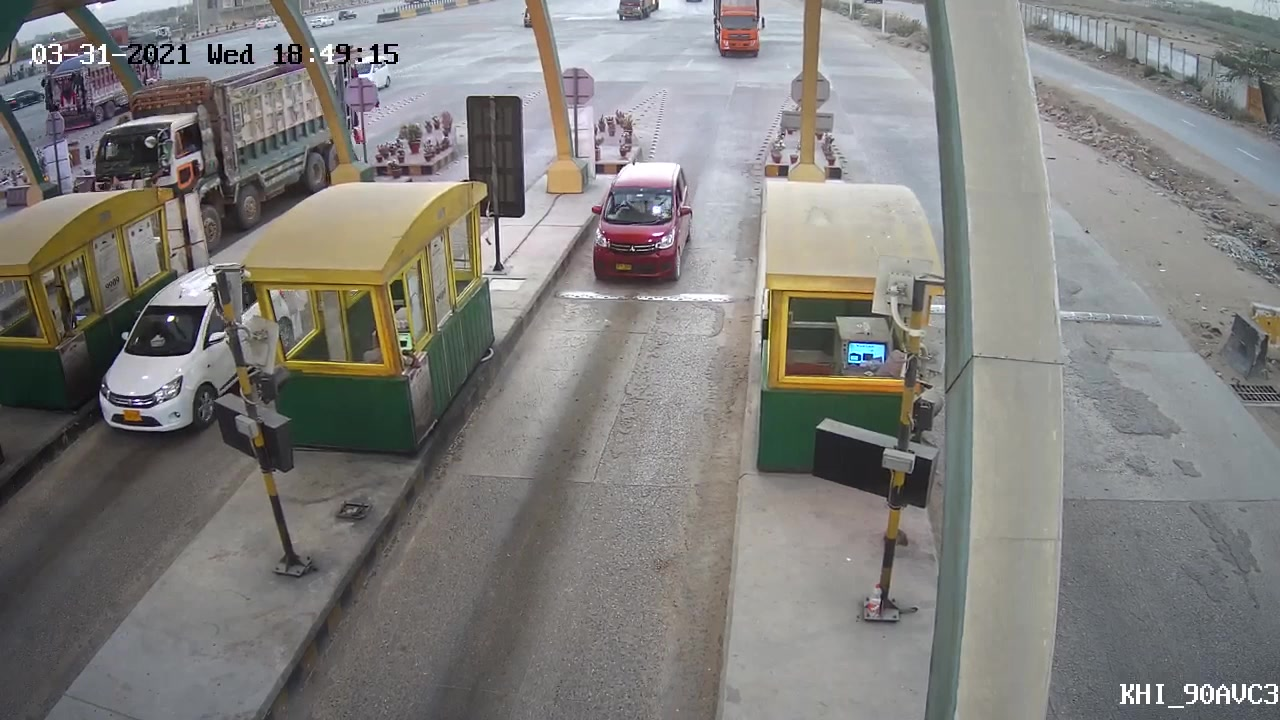F1: (580, 146, 707, 301)
